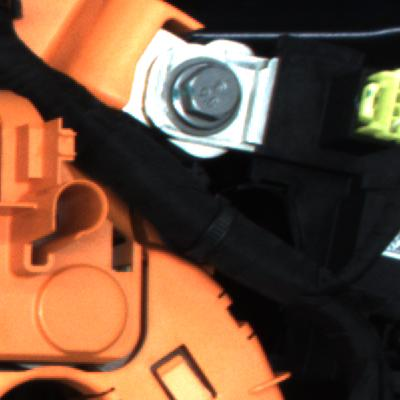nut_b: (158, 61, 284, 145)
